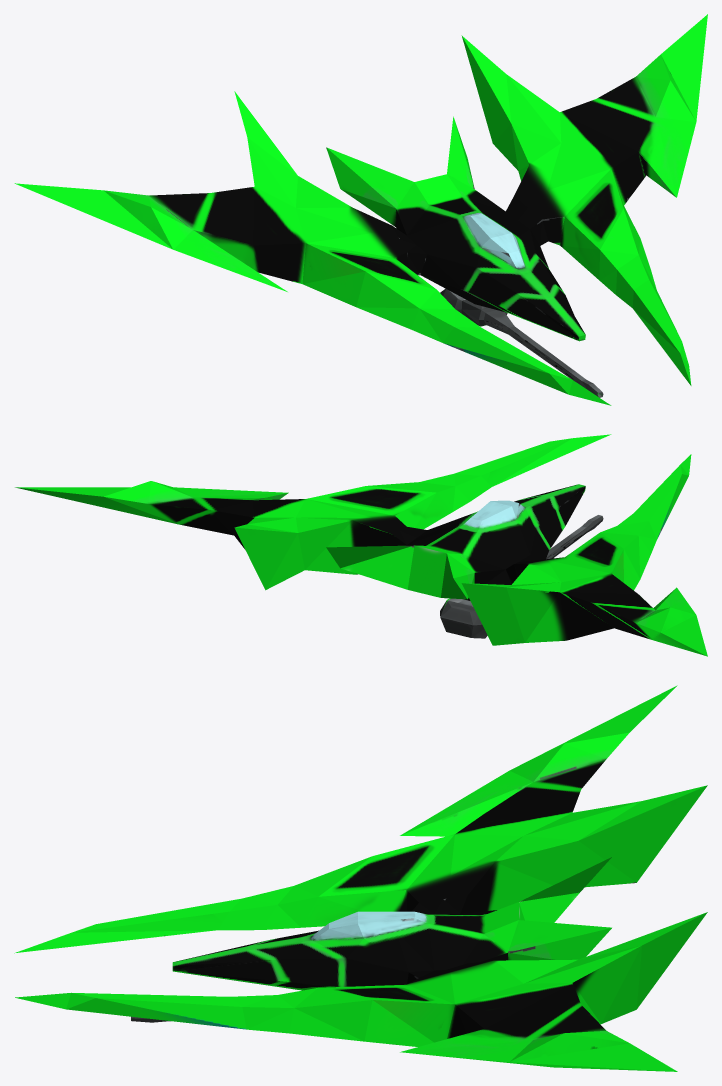
File: shooter.obj
The picture shows the model from 3 angles, top to bottom: view 1: azimuth 30°, elevation 25°; view 2: azimuth 150°, elevation 25°; view 3: azimuth 270°, elevation 25°; orthographic projection. The views are drawn at different scales.
Parts seen in each view (by area): view 1: Cube; view 2: Cube; view 3: Cube.
Part boxes in pixels (x1=…): Cube: x1=14, y1=14, x2=707, y2=405; Cube: x1=15, y1=434, x2=707, y2=656; Cube: x1=14, y1=685, x2=707, y2=1071.
Size of the model in its own units: 9.52 by 2.15 by 7.22.
1 material, 1 textured.
